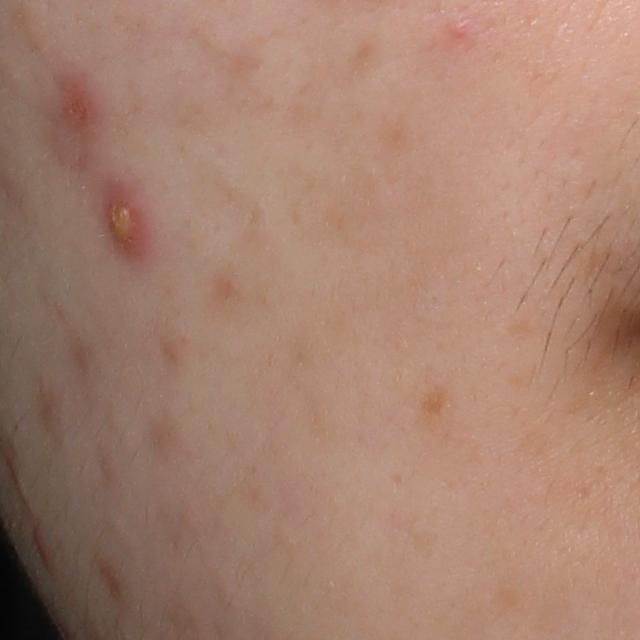papule: (59, 75, 102, 128)
pustule: (98, 174, 157, 266)
